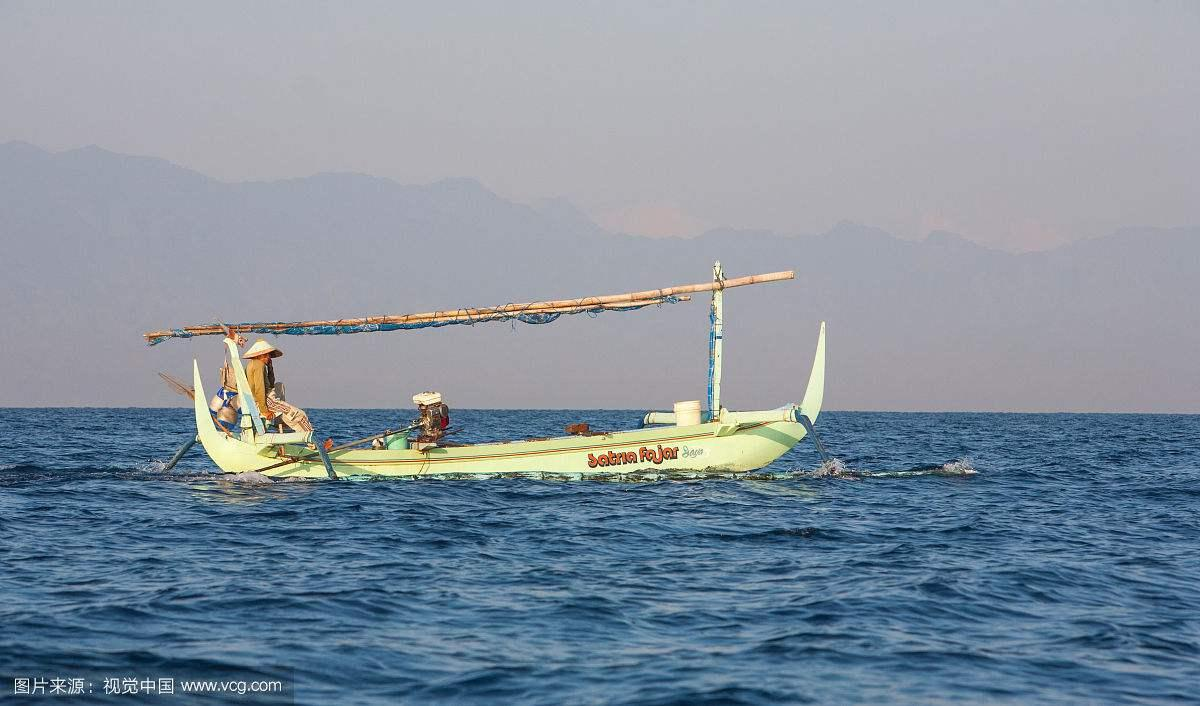otherboat: (158, 249, 840, 493)
